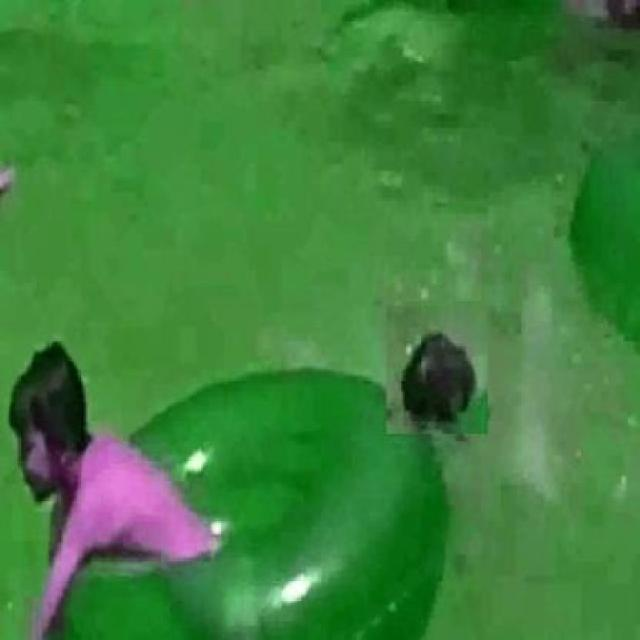drowning: (6, 351, 185, 567), (393, 308, 492, 414)
